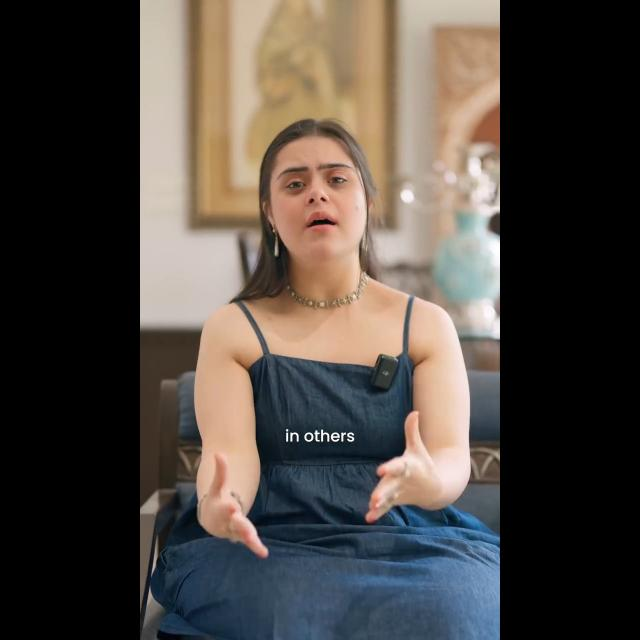dress: (168, 298, 500, 640)
ear ring: (266, 226, 280, 258)
